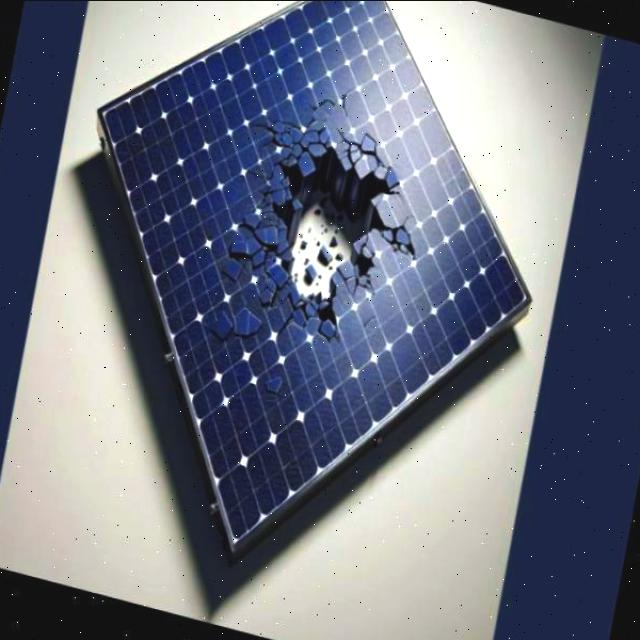Anomaly Solar Panel: (27, 0, 580, 544)
Structural Damage: (216, 97, 444, 362), (309, 96, 339, 117), (249, 169, 267, 184), (258, 142, 276, 153), (250, 125, 269, 132)
